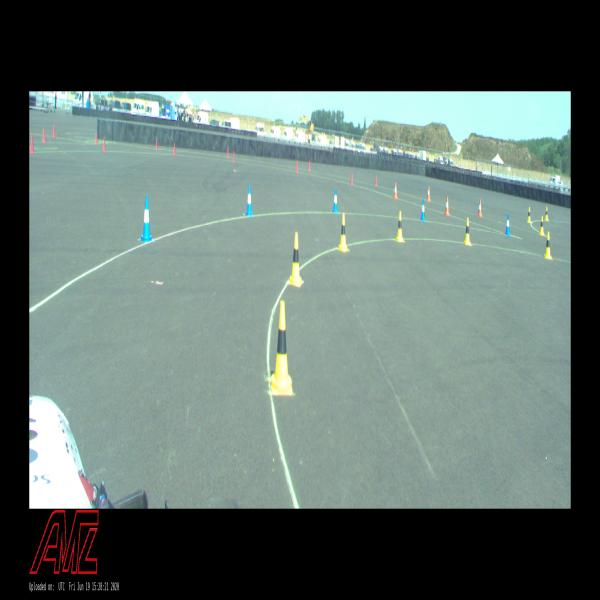blue_cone: (140, 196, 152, 241), (245, 185, 252, 215), (332, 189, 338, 214), (420, 199, 425, 221), (505, 214, 510, 235)
orange_cone: (444, 197, 450, 216), (478, 200, 482, 217), (394, 183, 398, 199), (426, 186, 430, 201)
unknown_cone: (29, 134, 35, 153), (102, 137, 106, 153), (42, 128, 46, 142), (94, 132, 98, 145), (52, 125, 56, 138), (173, 143, 176, 155), (374, 174, 377, 186), (308, 160, 311, 172), (233, 150, 235, 162), (296, 161, 298, 172), (351, 173, 353, 184), (227, 147, 229, 157), (156, 138, 157, 148)
yellow_cone: (271, 300, 292, 395), (290, 232, 302, 286), (338, 214, 347, 251), (396, 212, 404, 242), (544, 231, 552, 259), (464, 218, 470, 244), (539, 215, 544, 235), (527, 208, 531, 222), (545, 208, 548, 221)
